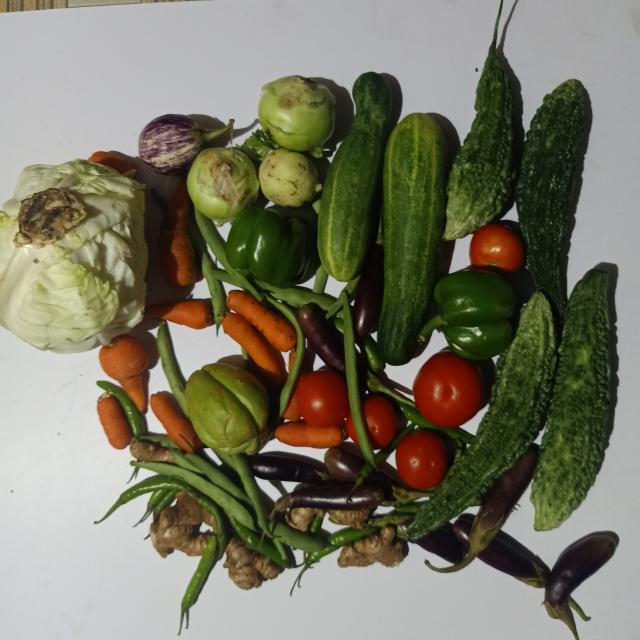Beans: (131, 463, 255, 530)
Bitter Gourd: (409, 292, 558, 541), (532, 269, 612, 531), (516, 79, 586, 320), (444, 0, 514, 240)
Brinjal: (545, 532, 620, 640), (546, 532, 620, 611)
Cabbage: (0, 159, 147, 353)
Capsicum: (420, 271, 515, 360), (225, 207, 316, 287)
Carrot: (226, 290, 297, 352), (221, 313, 281, 383), (470, 224, 525, 272), (96, 395, 132, 450), (145, 301, 214, 329)
Chayote: (184, 364, 269, 455)
Cucumber: (378, 112, 447, 366), (318, 71, 392, 281)
Eggplant: (138, 113, 234, 175)
Ginger: (150, 492, 216, 559), (338, 528, 404, 568)
Green Chilly: (178, 536, 217, 636)
Tomato: (413, 351, 483, 428), (297, 371, 350, 428), (396, 432, 447, 490)
Turnip: (258, 74, 336, 157), (186, 147, 260, 223), (259, 147, 323, 206)
